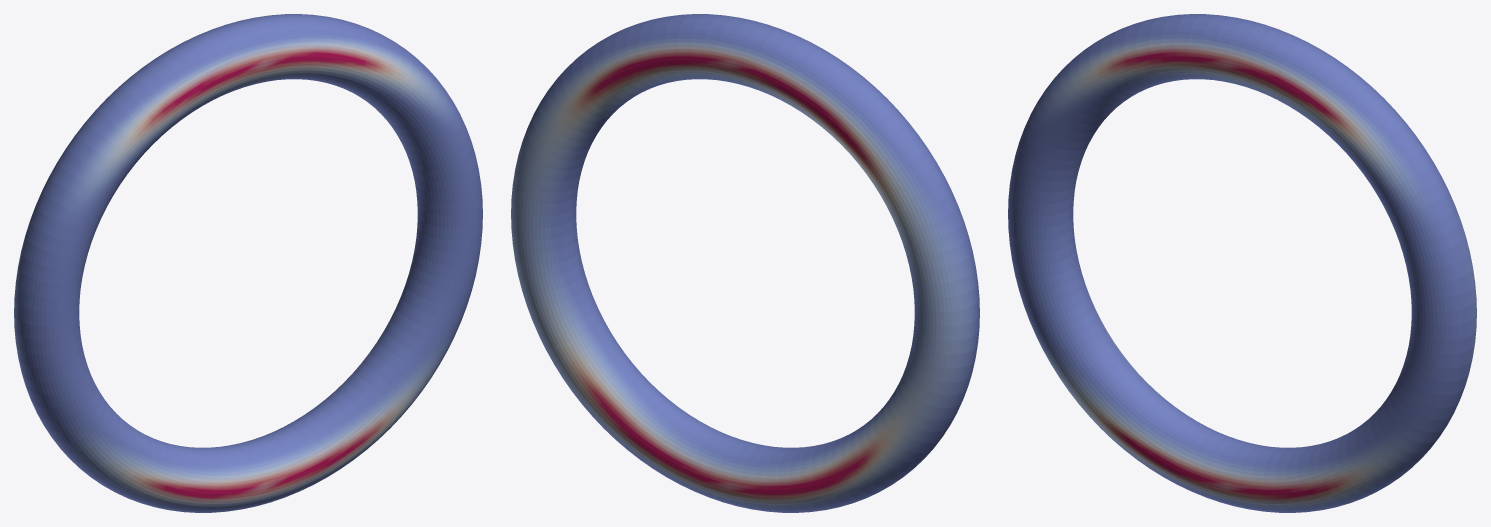
3 views of the same model, side by side, from view 1: azimuth 30°, elevation 25°; view 2: azimuth 150°, elevation 25°; view 3: azimuth 330°, elevation 25° (orthographic).
Visible parts, largest first — view 1: world; view 2: world; view 3: world.
Boxes of the visible parts, x1=… form: world: x1=14, y1=14, x2=482, y2=512; world: x1=511, y1=14, x2=979, y2=512; world: x1=1008, y1=14, x2=1476, y2=512.
Size of the model in its own units: 22.8 by 22.8 by 2.79.
